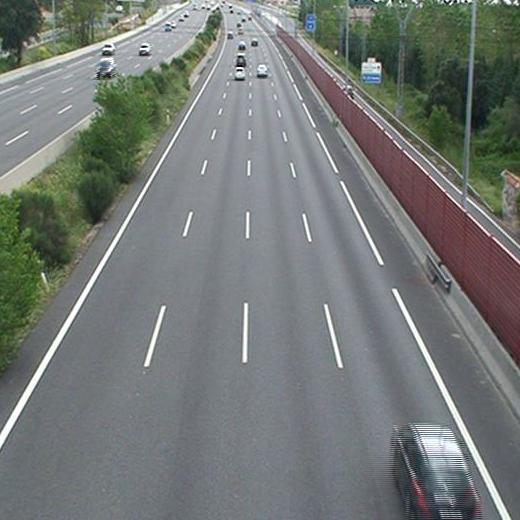car: (395, 425, 476, 519), (234, 67, 246, 79), (256, 64, 267, 76), (236, 54, 246, 64)
